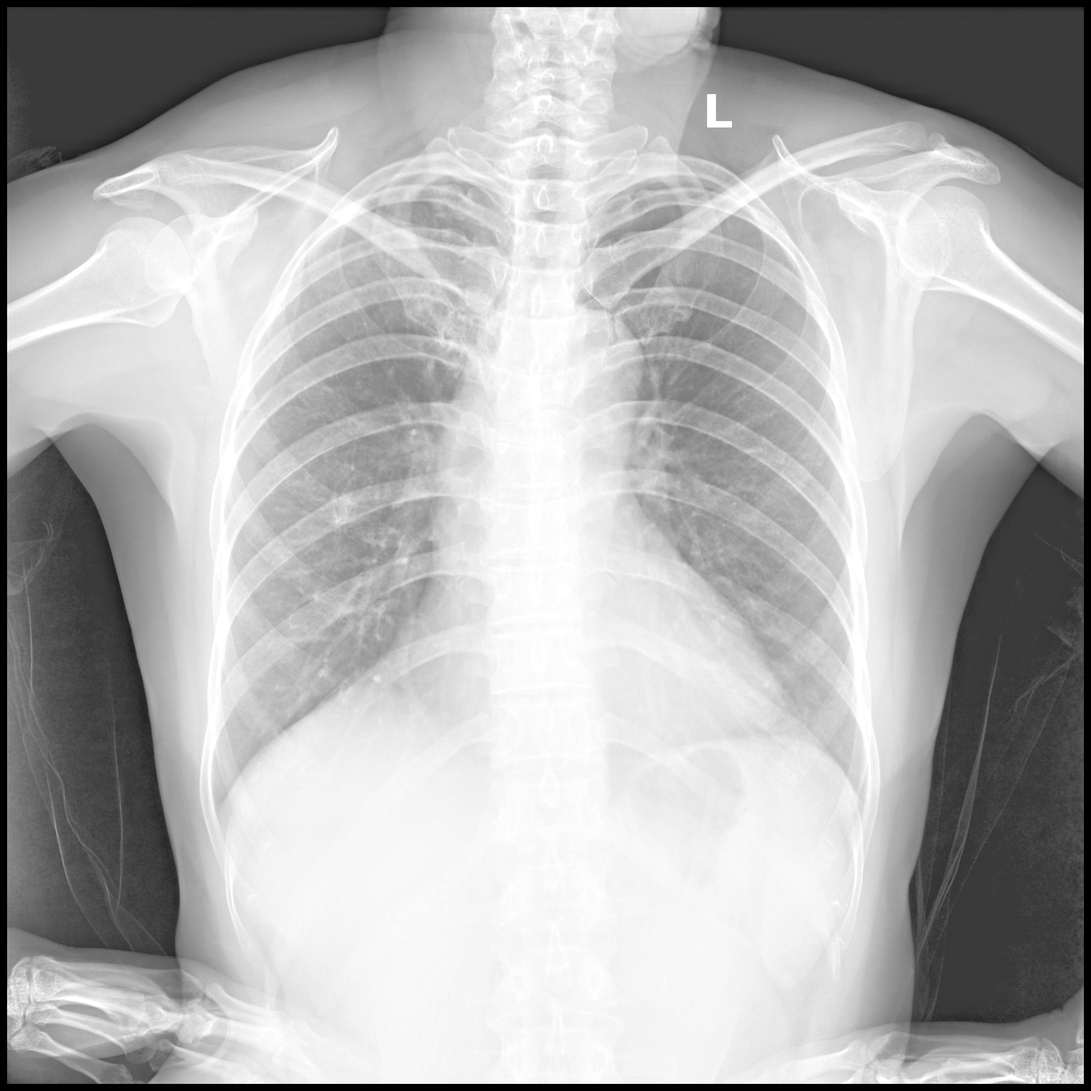Pulmonary fibrosis: (430, 194, 468, 224)
